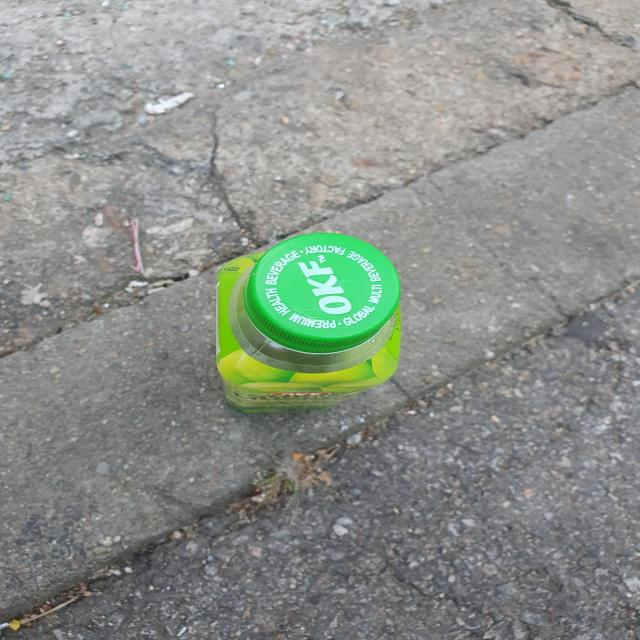plastic: (216, 232, 401, 412)
